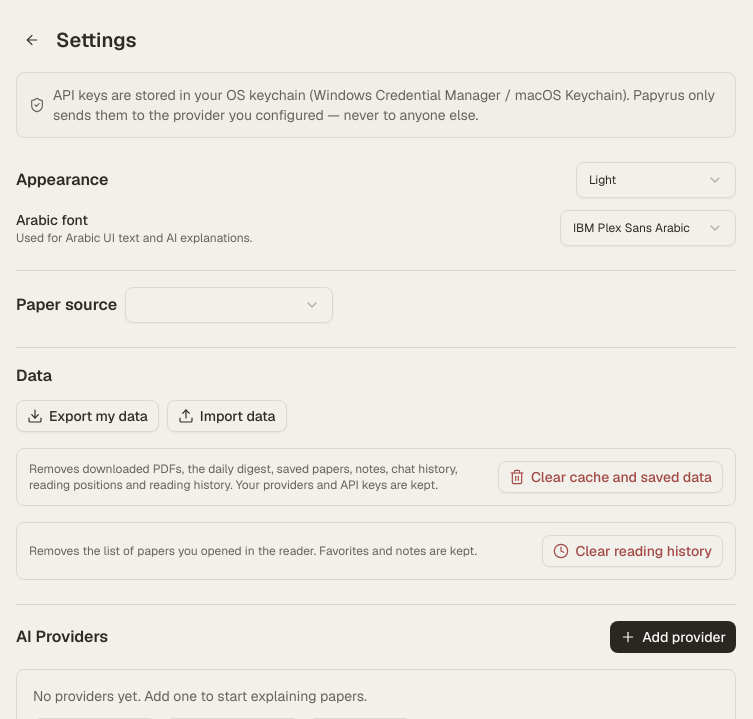
Test: settings page › never autofocuses a destructive confirm, so Enter cannot wipe by reflex
The image size is (753, 719).
Click the button "Clear cache and saved data". click: (610, 477)
box: x1=498 y1=461 x2=723 y2=493
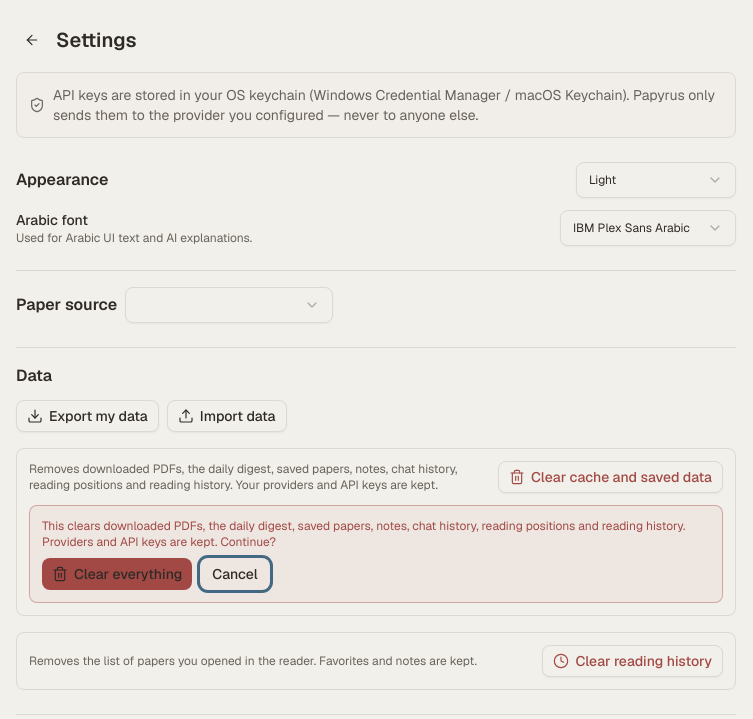
Expected: the button "Cancel" is shown, x1=200 y1=558 x2=270 y2=590
Click the button "Clear reading history". click: (633, 661)
box: x1=542 y1=645 x2=723 y2=677
(page scrolled)
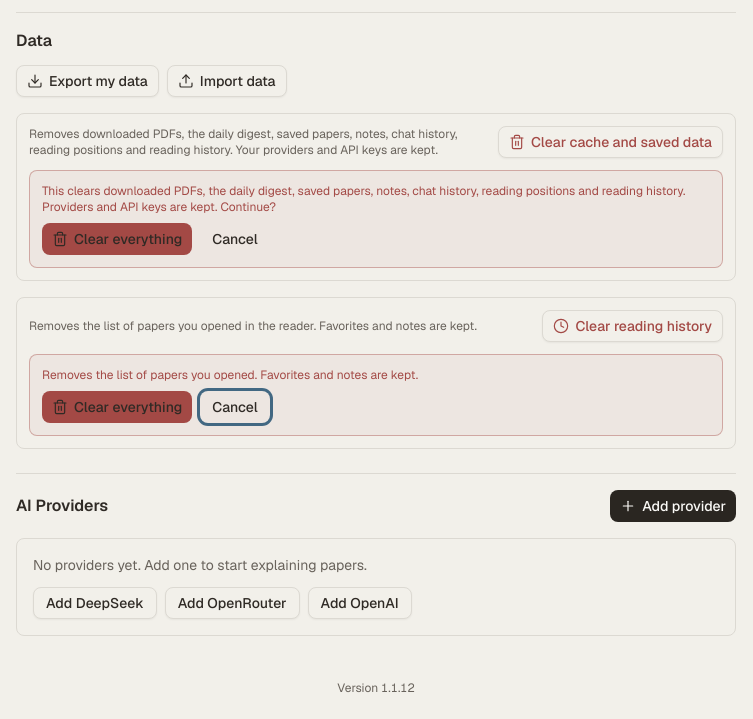
Expected: the text "Removes the list of papers you opened. Favorites and notes are kept." is shown, x1=42 y1=367 x2=418 y2=383
Press Escape in the 2nd button "Cancel", box x1=200 y1=391 x2=270 y2=423
(page scrolled)
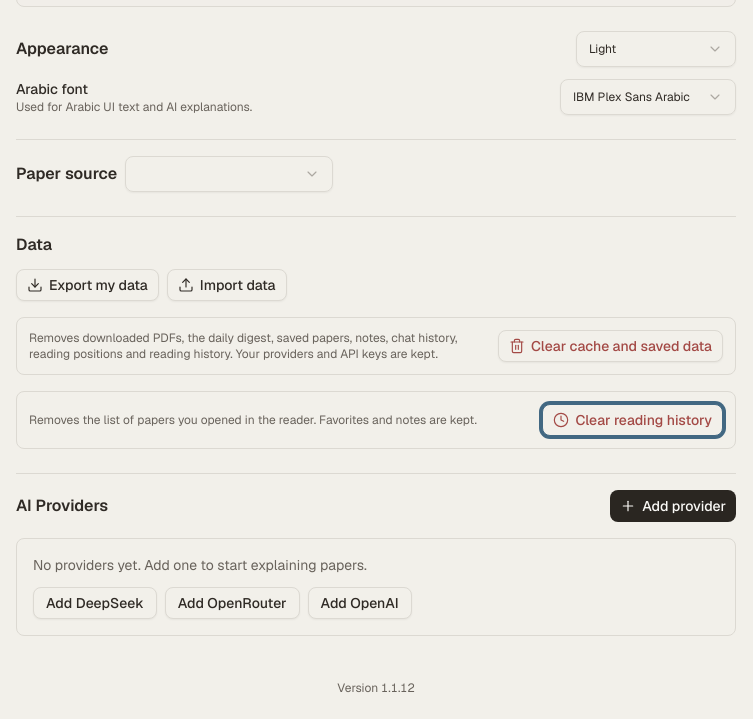
Expected: the text "Removes the list of papers you opened. Favorites and notes are kept." is gone
